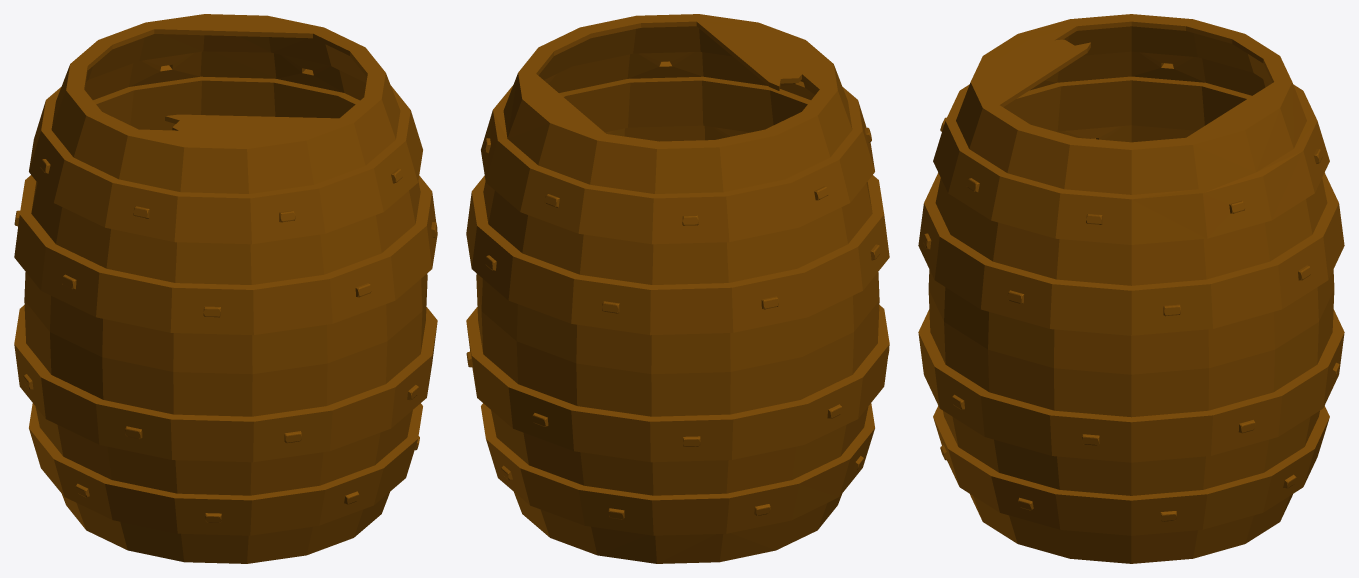
The model's file is Barrel.fbx.
The picture shows the model from 3 angles, left to right: view 1: azimuth 30°, elevation 25°; view 2: azimuth 150°, elevation 25°; view 3: azimuth 270°, elevation 25°; orthographic projection.
Parts seen in each view (by area): view 1: Cylinder; view 2: Cylinder; view 3: Cylinder.
Part boxes in pixels (box(x1,y1,x2,y2)): Cylinder: box(14, 14, 437, 563); Cylinder: box(466, 14, 889, 563); Cylinder: box(918, 14, 1344, 563).
Size of the model in its own units: 82.12 by 88.01 by 82.12.
